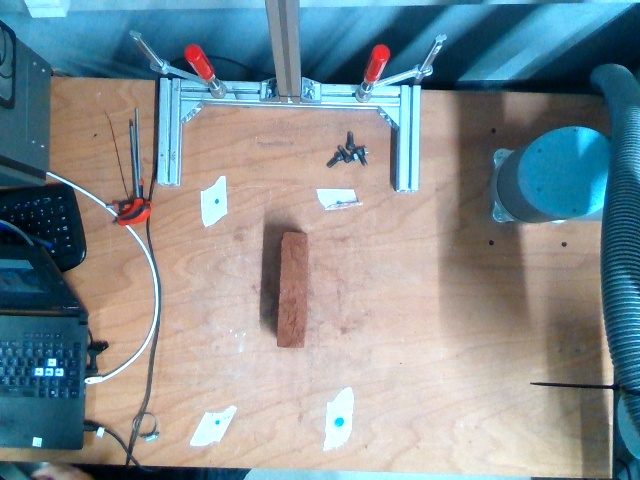brick-side: (278, 235, 307, 348)
